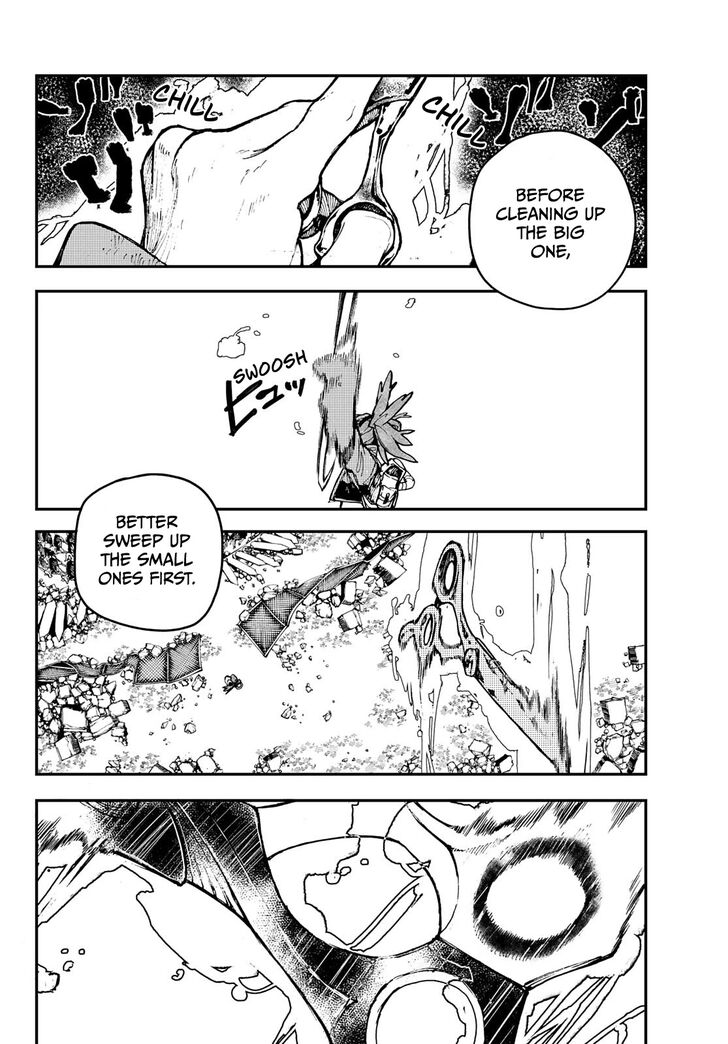bubble: (470, 130, 634, 311), (74, 474, 223, 630)
